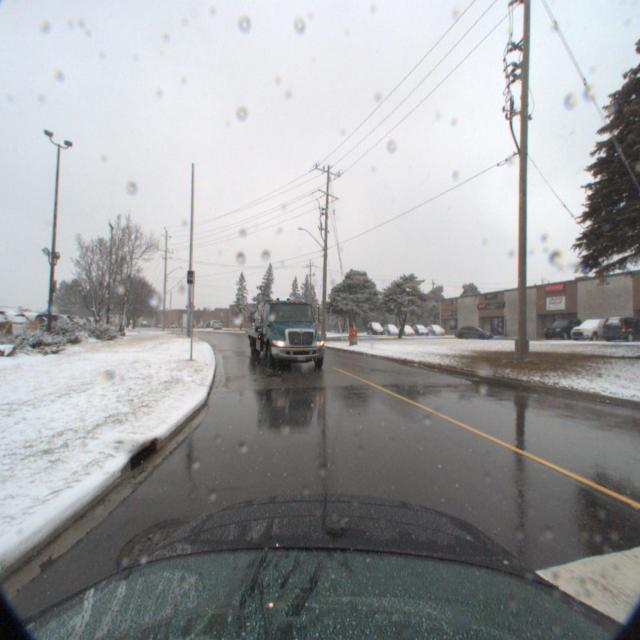Car: (571, 316, 625, 341), (453, 320, 499, 338), (365, 316, 384, 332), (425, 320, 447, 332), (382, 319, 401, 332)
Truck: (236, 277, 333, 372)
